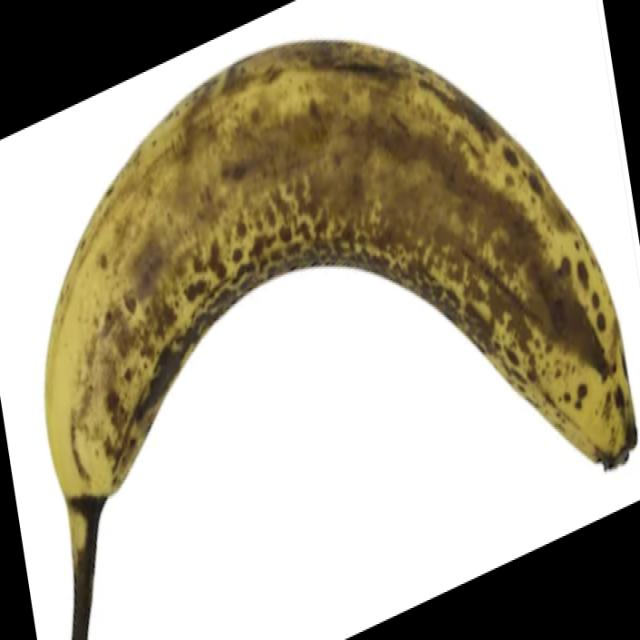overripe: (39, 27, 640, 640)
